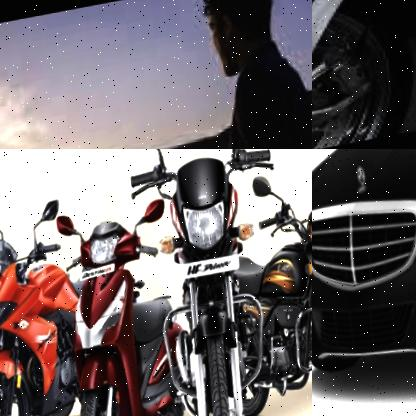bike: (109, 149, 312, 416), (49, 193, 201, 416), (233, 159, 312, 416), (0, 200, 87, 416), (312, 0, 416, 149)
car: (312, 149, 416, 403)
